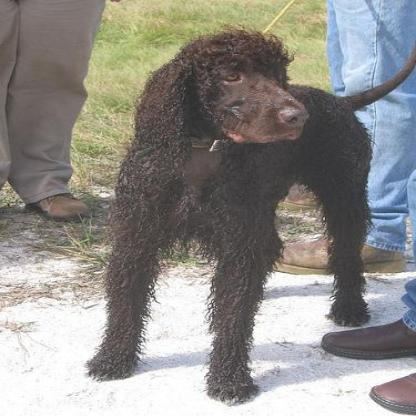Irish_water_spaniel: (83, 29, 413, 404)
